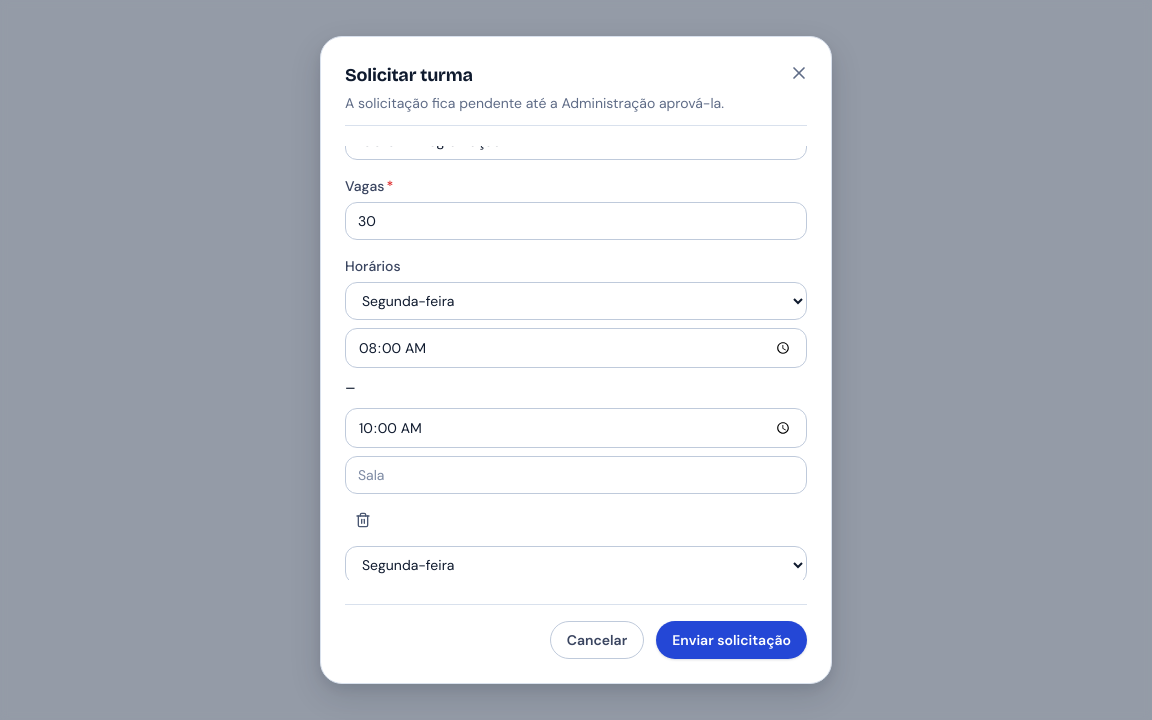
Scenario: ClassFormModal › blocks overlapping schedules before the round trip
Earlier steps of the test are not shown.
(page scrolled)
Click the button "Enviar solicitação": (732, 640) [656,621,807,659]
(page scrolled)
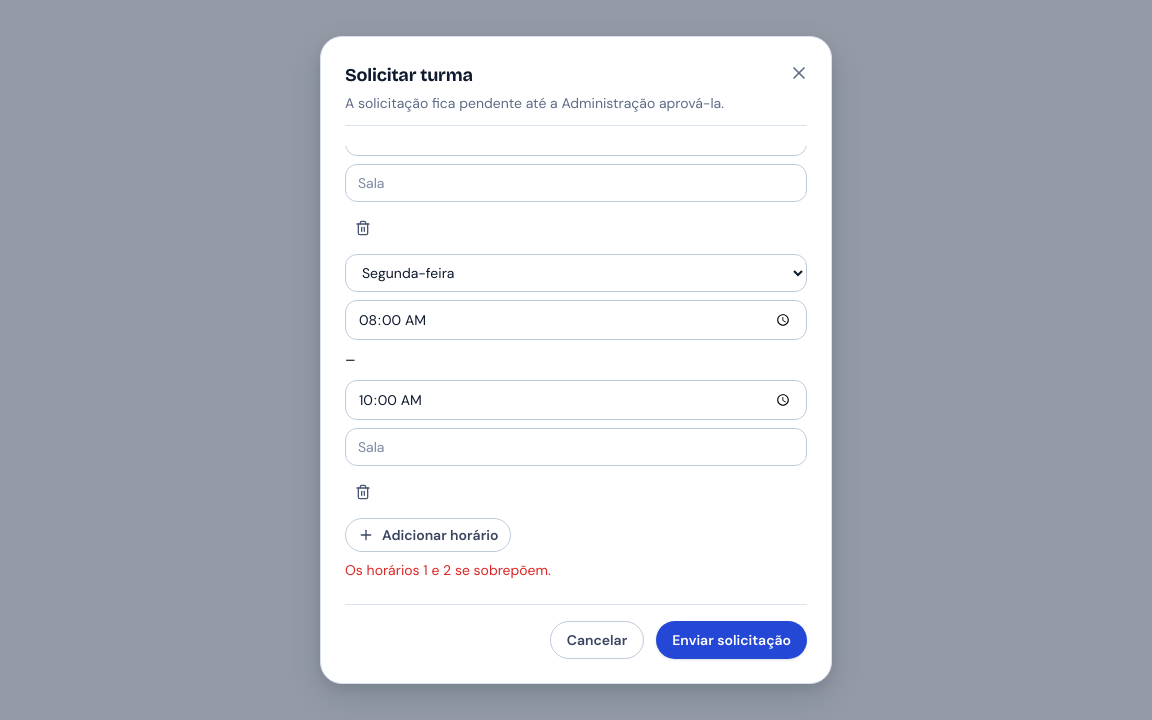
Expected: the text "Os horários 1 e 2 se sobrepõem." is shown, [345,561,551,579]
